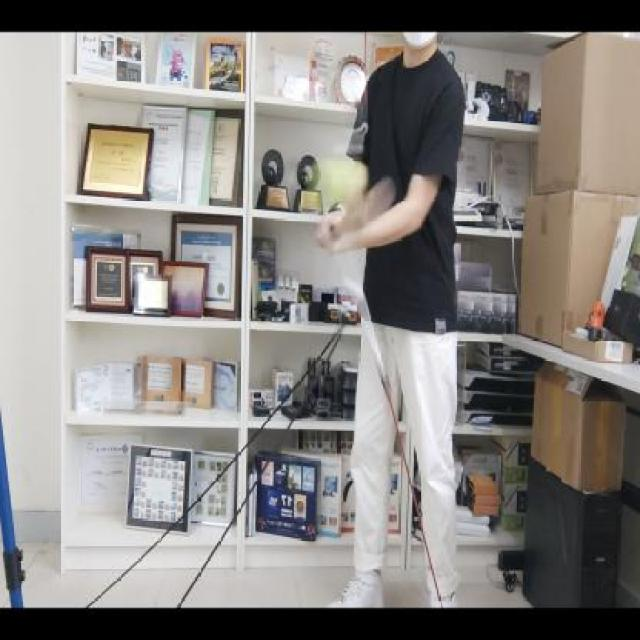baseball: (320, 152, 363, 202)
